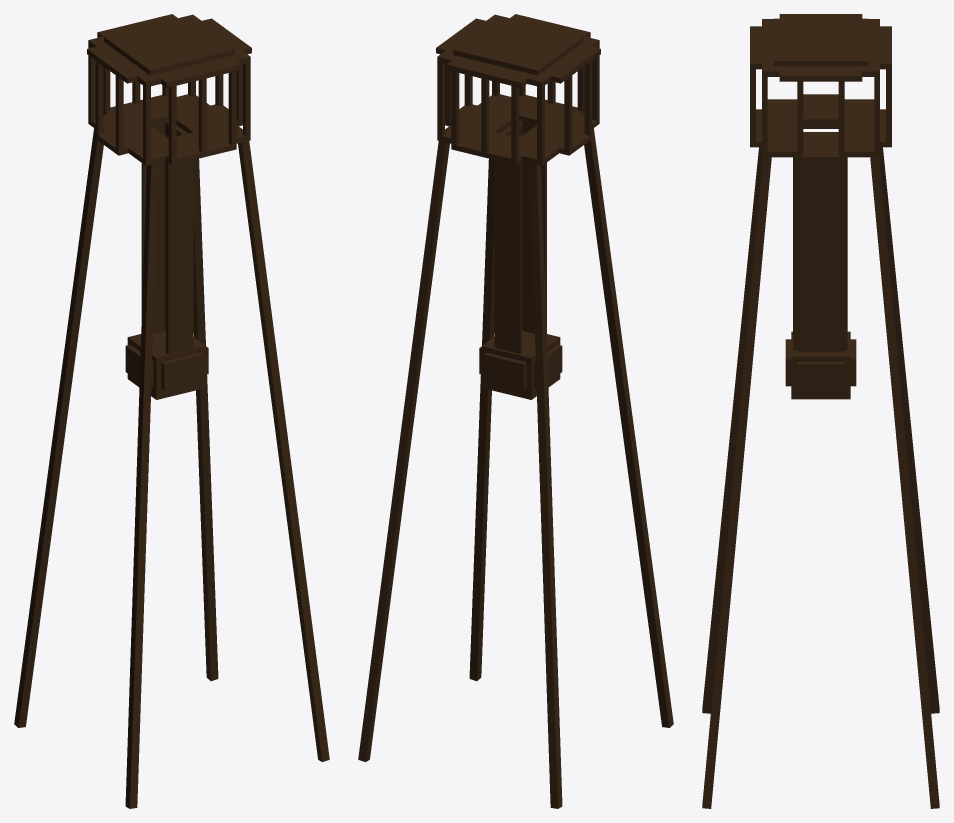
Rendered from watchtower1.obj.
3 views of the same model, side by side, from view 1: azimuth 30°, elevation 25°; view 2: azimuth 150°, elevation 25°; view 3: azimuth 270°, elevation 25° (orthographic). The views are drawn at different scales.
Visible parts, largest first — view 1: cube; view 2: cube; view 3: cube.
Part boxes in pixels (box(x1,y1,x2,y2)): cube: box(14, 14, 329, 808); cube: box(358, 14, 673, 808); cube: box(702, 14, 939, 808).
Size of the model in its own units: 40.07 by 134 by 40.14.
Materials: 1 (1 with a texture image).
